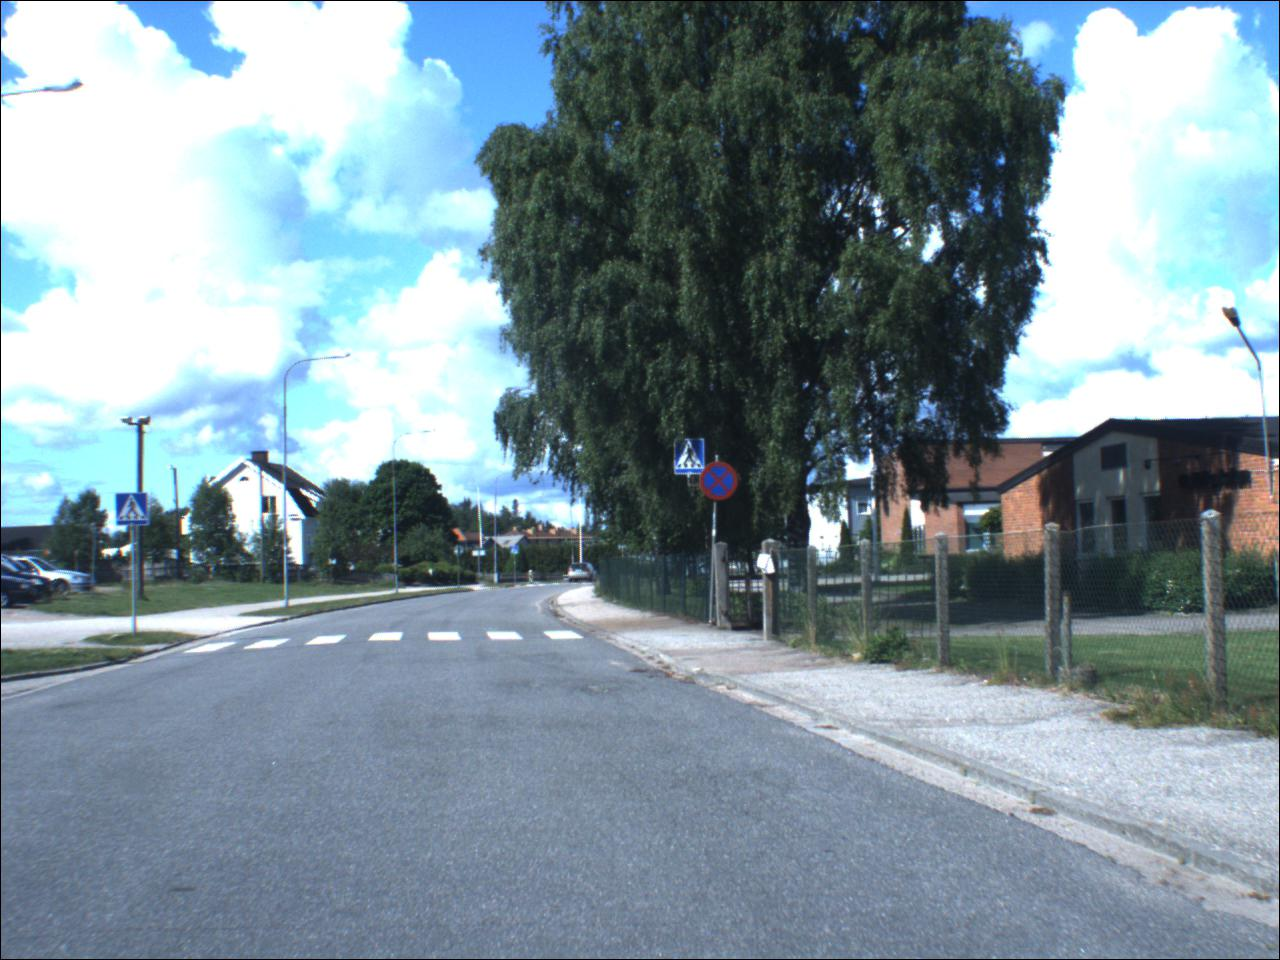NO_STOPPING_NO_STANDING: (703, 464, 741, 503)
PEDESTRIAN_CROSSING: (676, 439, 707, 478), (118, 495, 153, 528), (512, 547, 523, 557)
